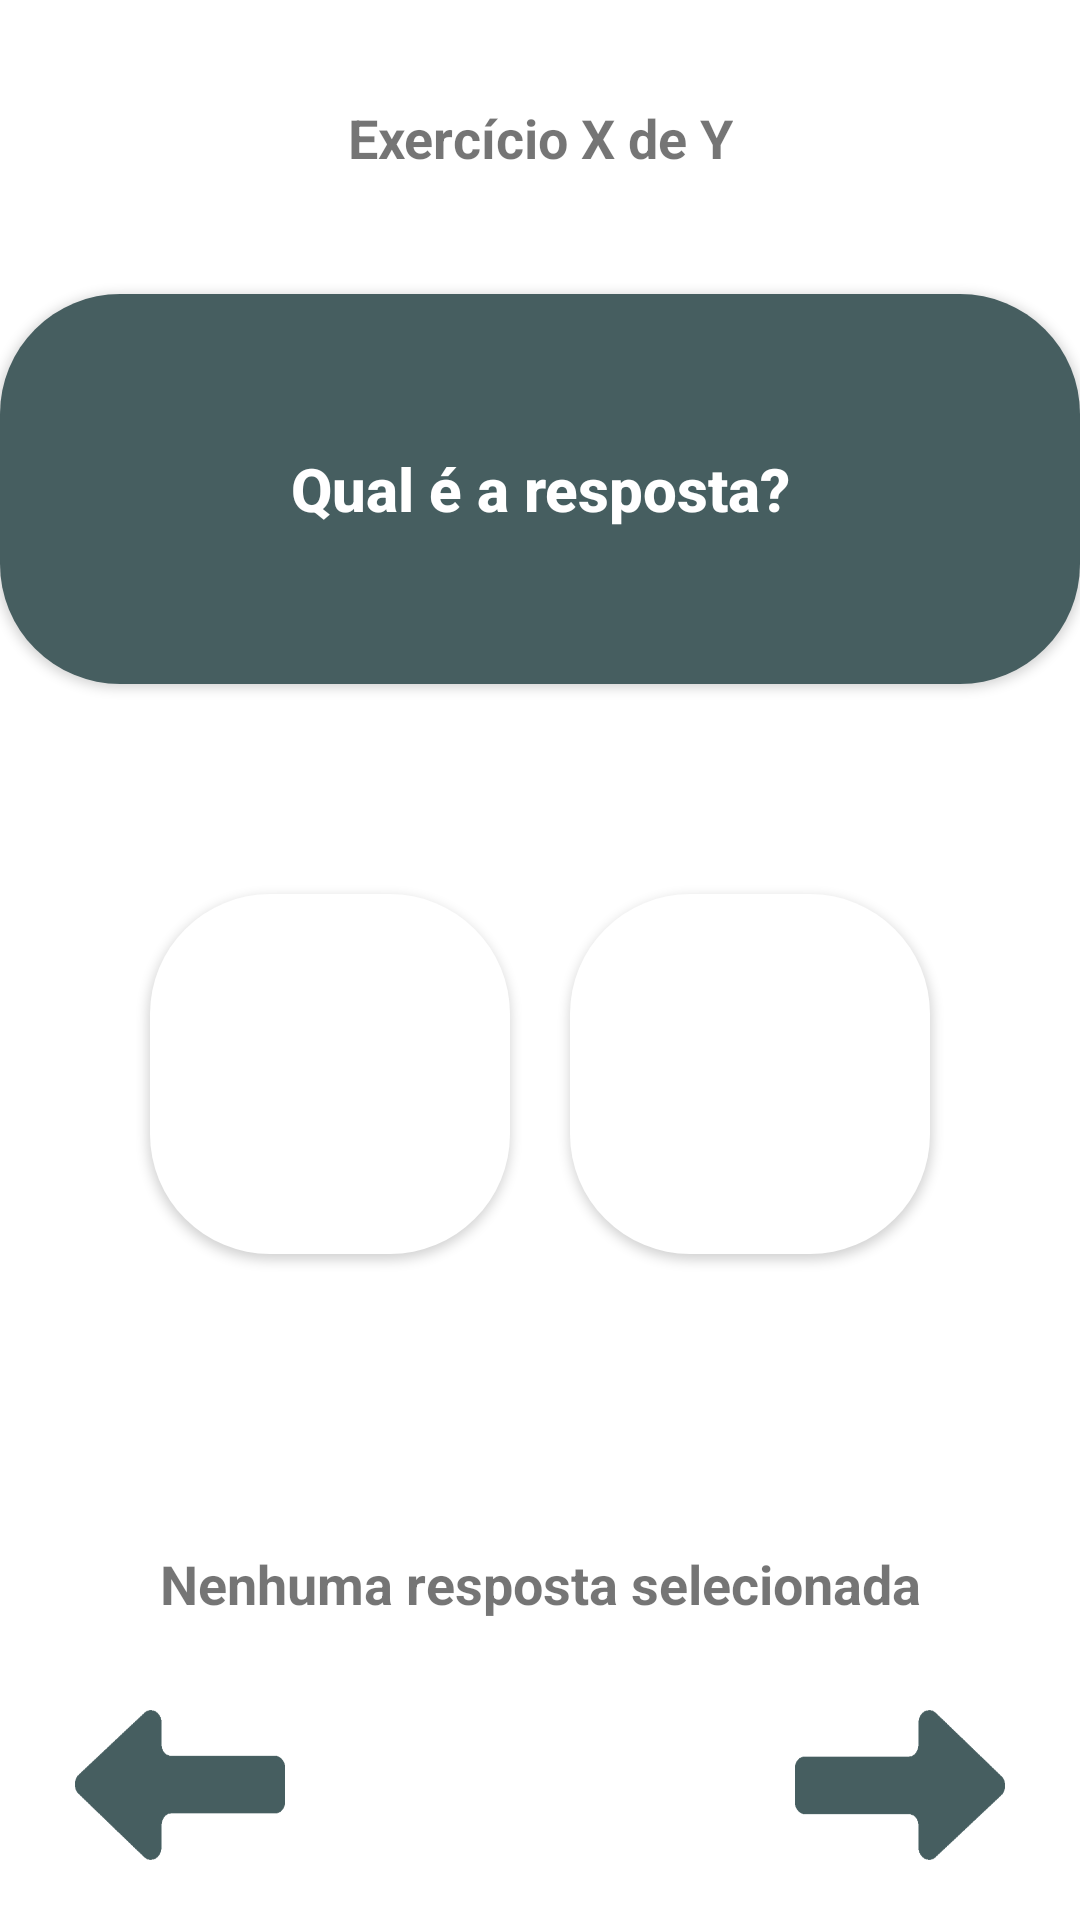

Where icons sit on this 1080px×1920px app screen, as {"x1": x1, "y1": y1, "x2": x2, "y2": y2}:
next: {"x1": 795, "y1": 1710, "x2": 1005, "y2": 1860}
prev: {"x1": 75, "y1": 1710, "x2": 285, "y2": 1860}
